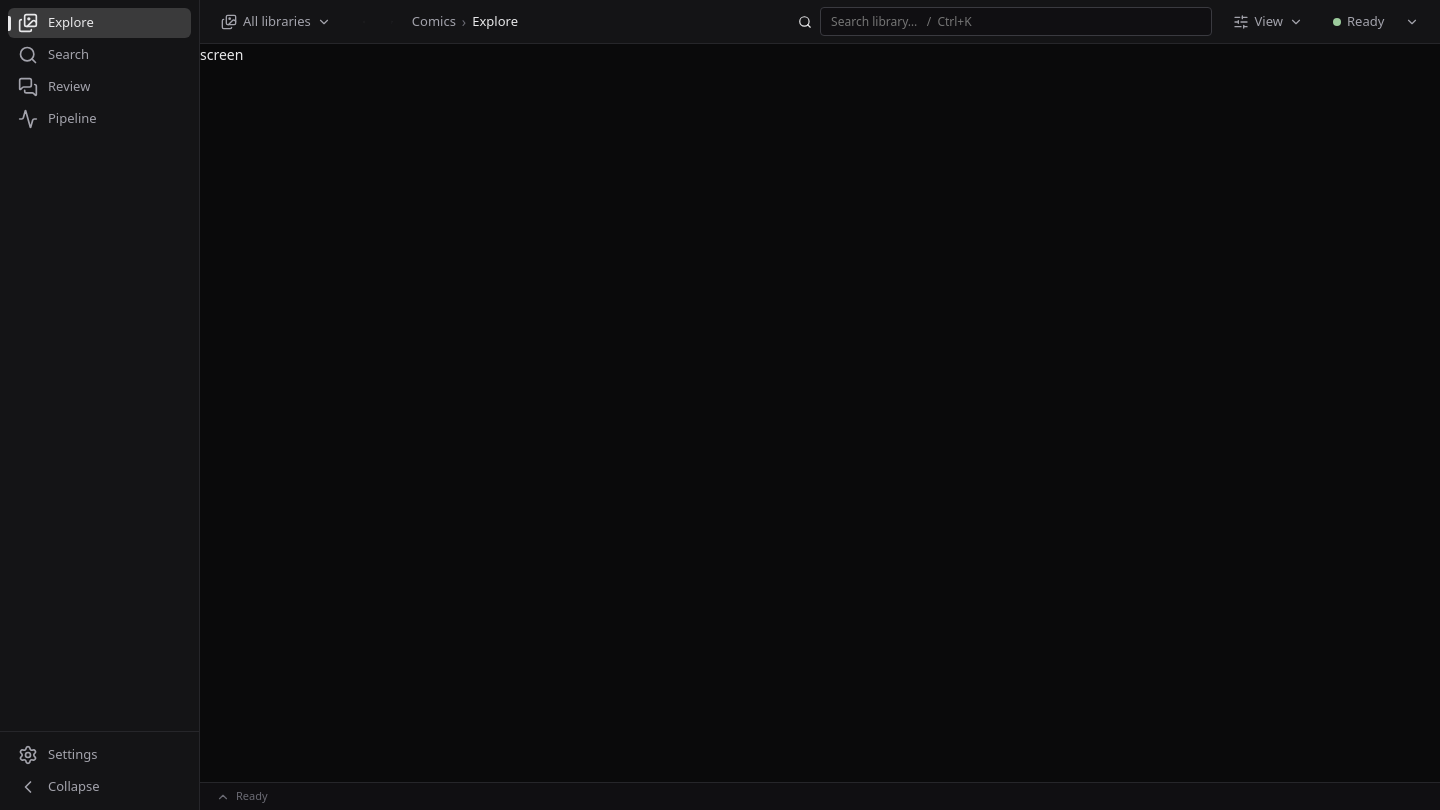
Test: AppShell keyboard dispatch (NAV-20, NAV-26, NAV-31) › ignores single-letter shortcuts typed into the search field
This screenshot has width=1440, height=810.
Click the field labelled "Search library". click: (1016, 22)
box: [820,7,1212,36]
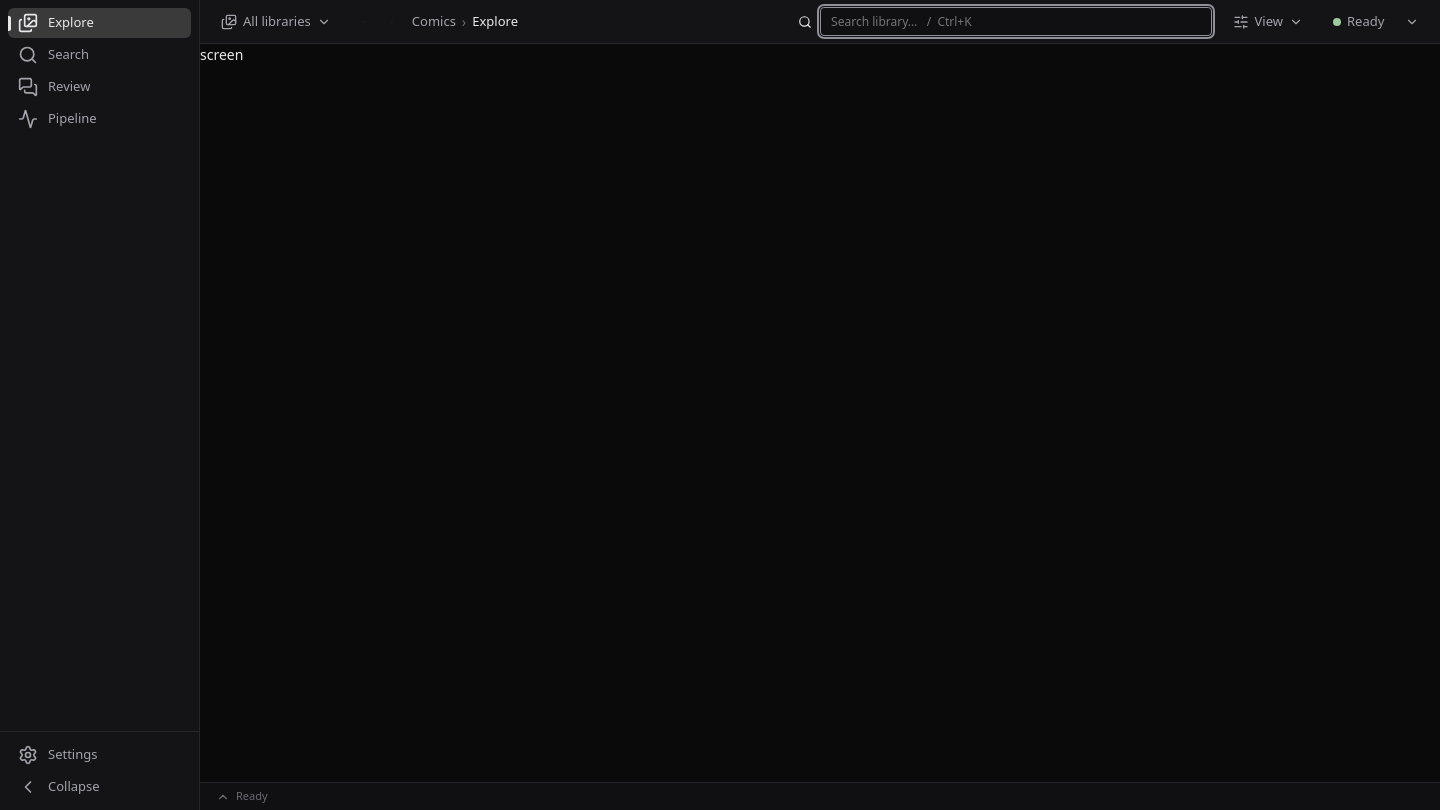
Type keys "/comics"
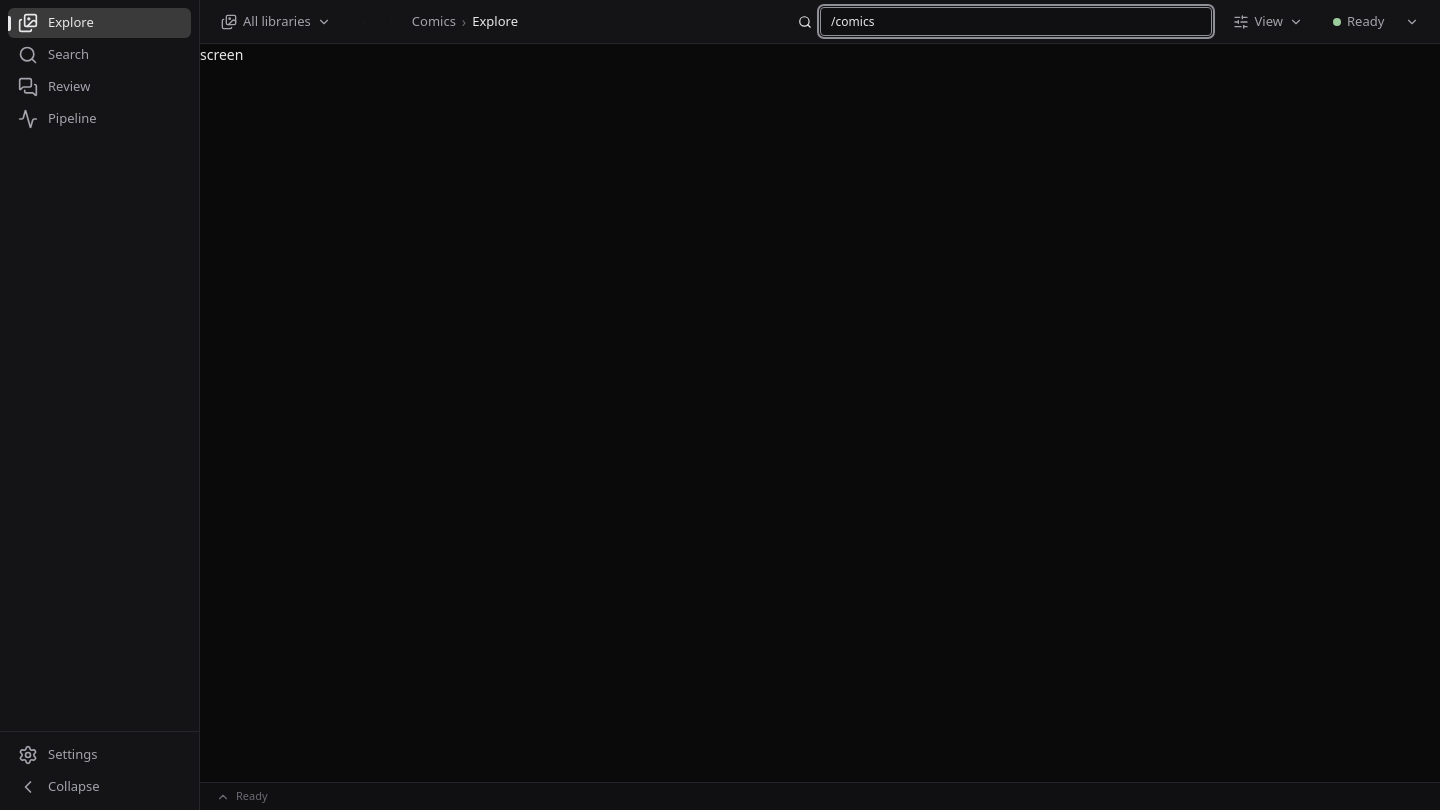
Result: the field named "Search library" holds "/comics" at [820,7,1212,36]
